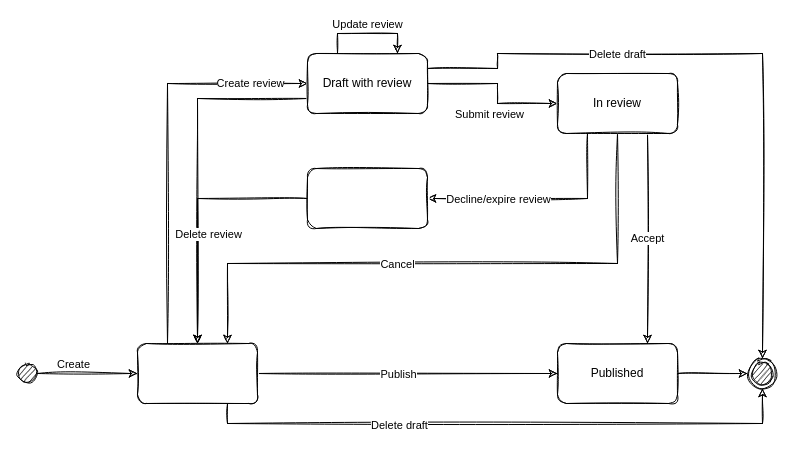
The diagram is 795 pixels wide and 449 high, and some of its shapes have lost their labels. Here are the shapes that lost their labels. From the top down, the centre of each, then its label:
point 367,198: Declined
point 197,373: Draft
